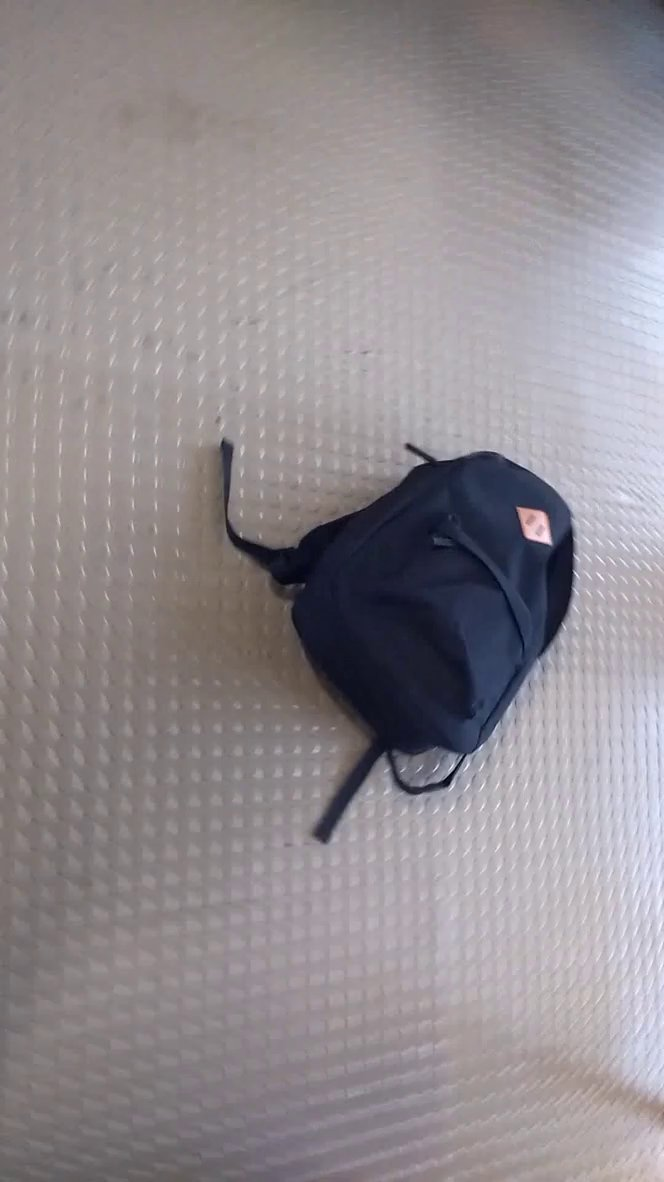bag: (213, 431, 587, 851)
